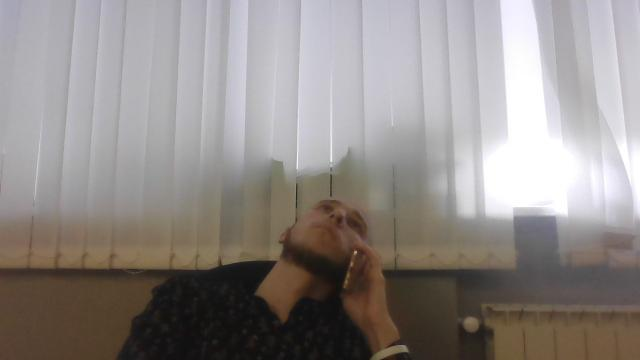PhoneUse: (339, 247, 369, 293)
